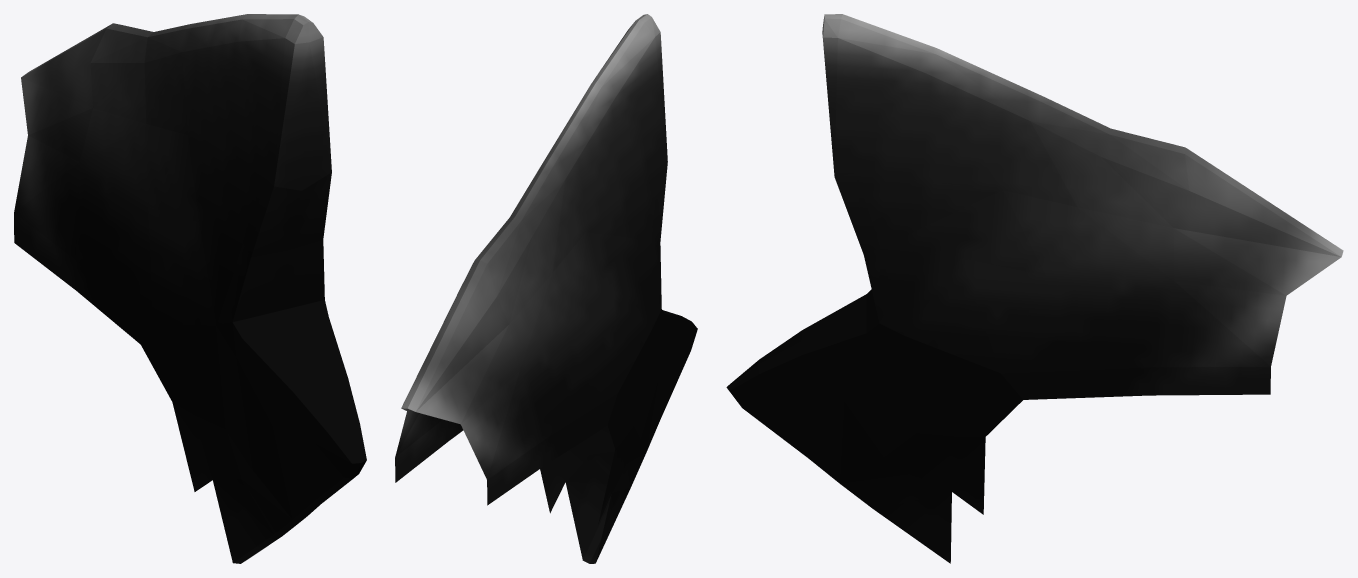
The model's file is 0062_HT_FX_baoshiguijiao1.glb.
3 views of the same model, side by side, from view 1: azimuth 30°, elevation 25°; view 2: azimuth 150°, elevation 25°; view 3: azimuth 270°, elevation 25° (orthographic). The views are drawn at different scales.
Bounding box in the file's own units: 0.4613 × 2.16 × 2.2.
1 material, 1 textured.
